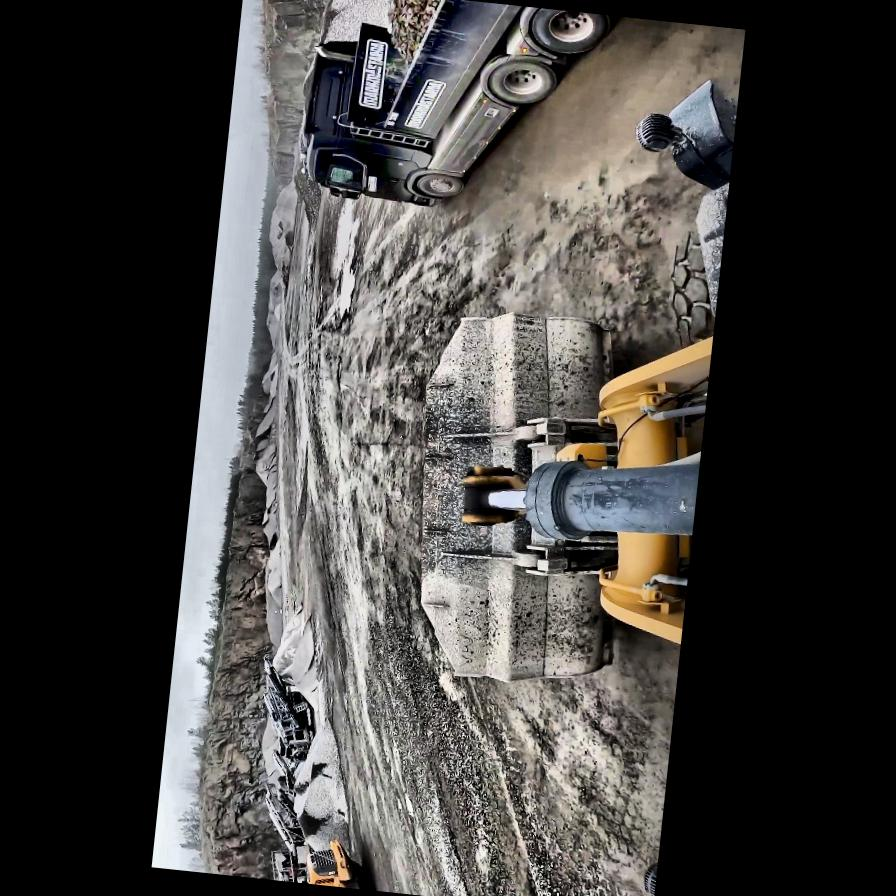anchor: (458, 462, 528, 527)
pile of gravel: (280, 0, 424, 215), (250, 593, 360, 846), (244, 466, 302, 646), (290, 710, 360, 856), (246, 362, 283, 488), (260, 241, 291, 337), (288, 152, 324, 220), (256, 718, 282, 780), (272, 300, 280, 320)
